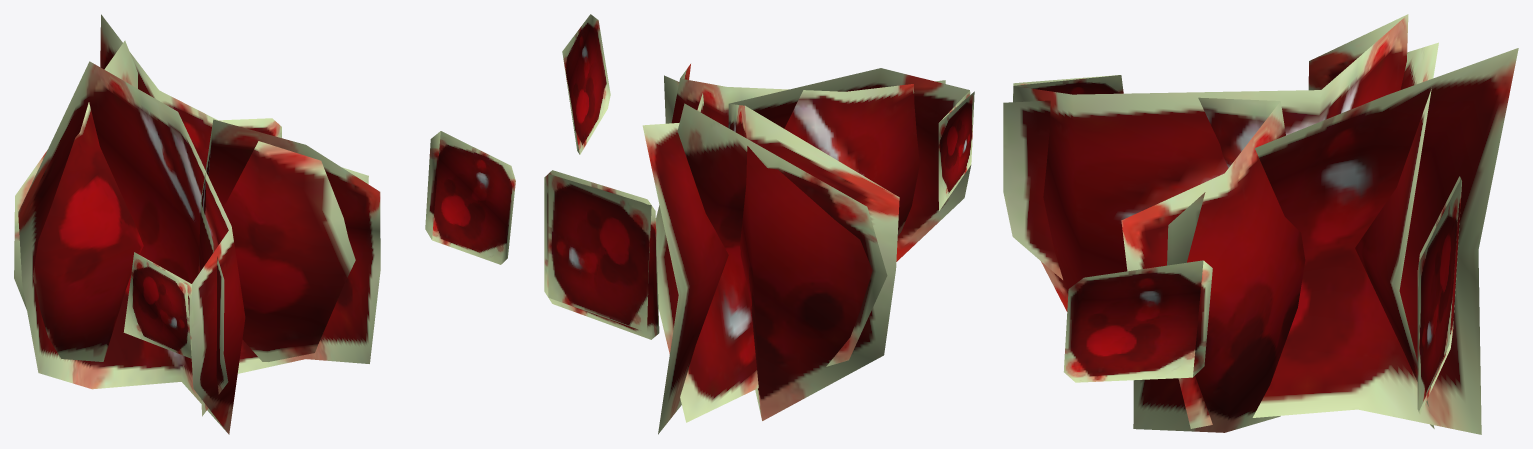
The model's file is Zombie_Broken_Nurse_Body_170c757d__Zombie_Broken_Green_0_bb717ba8_c1f257.obj.
The picture shows the model from 3 angles, left to right: view 1: azimuth 30°, elevation 25°; view 2: azimuth 150°, elevation 25°; view 3: azimuth 270°, elevation 25°; orthographic projection. The views are drawn at different scales.
Bounding box in the file's own units: 0.7545 × 0.5751 × 0.6939.
Materials: 1 (1 with a texture image).
